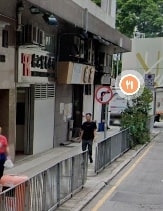No Turn Right: (95, 84, 112, 106)
